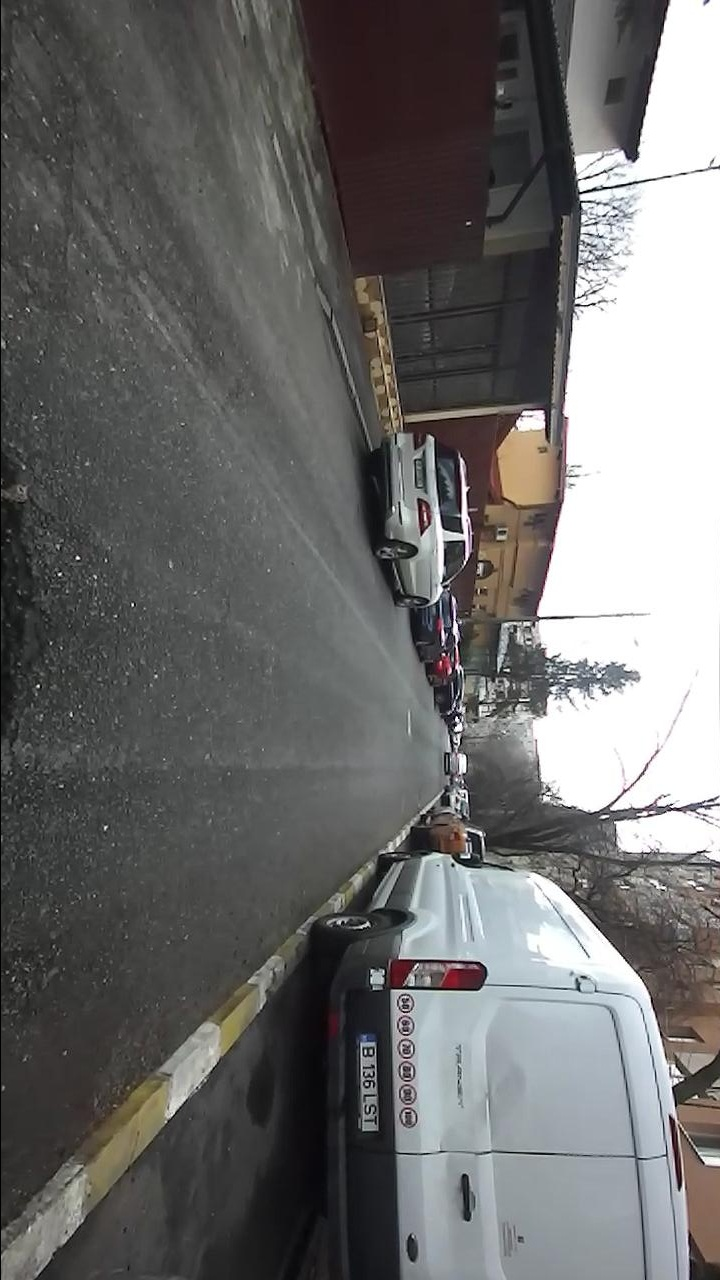pothole: (0, 420, 49, 800)
